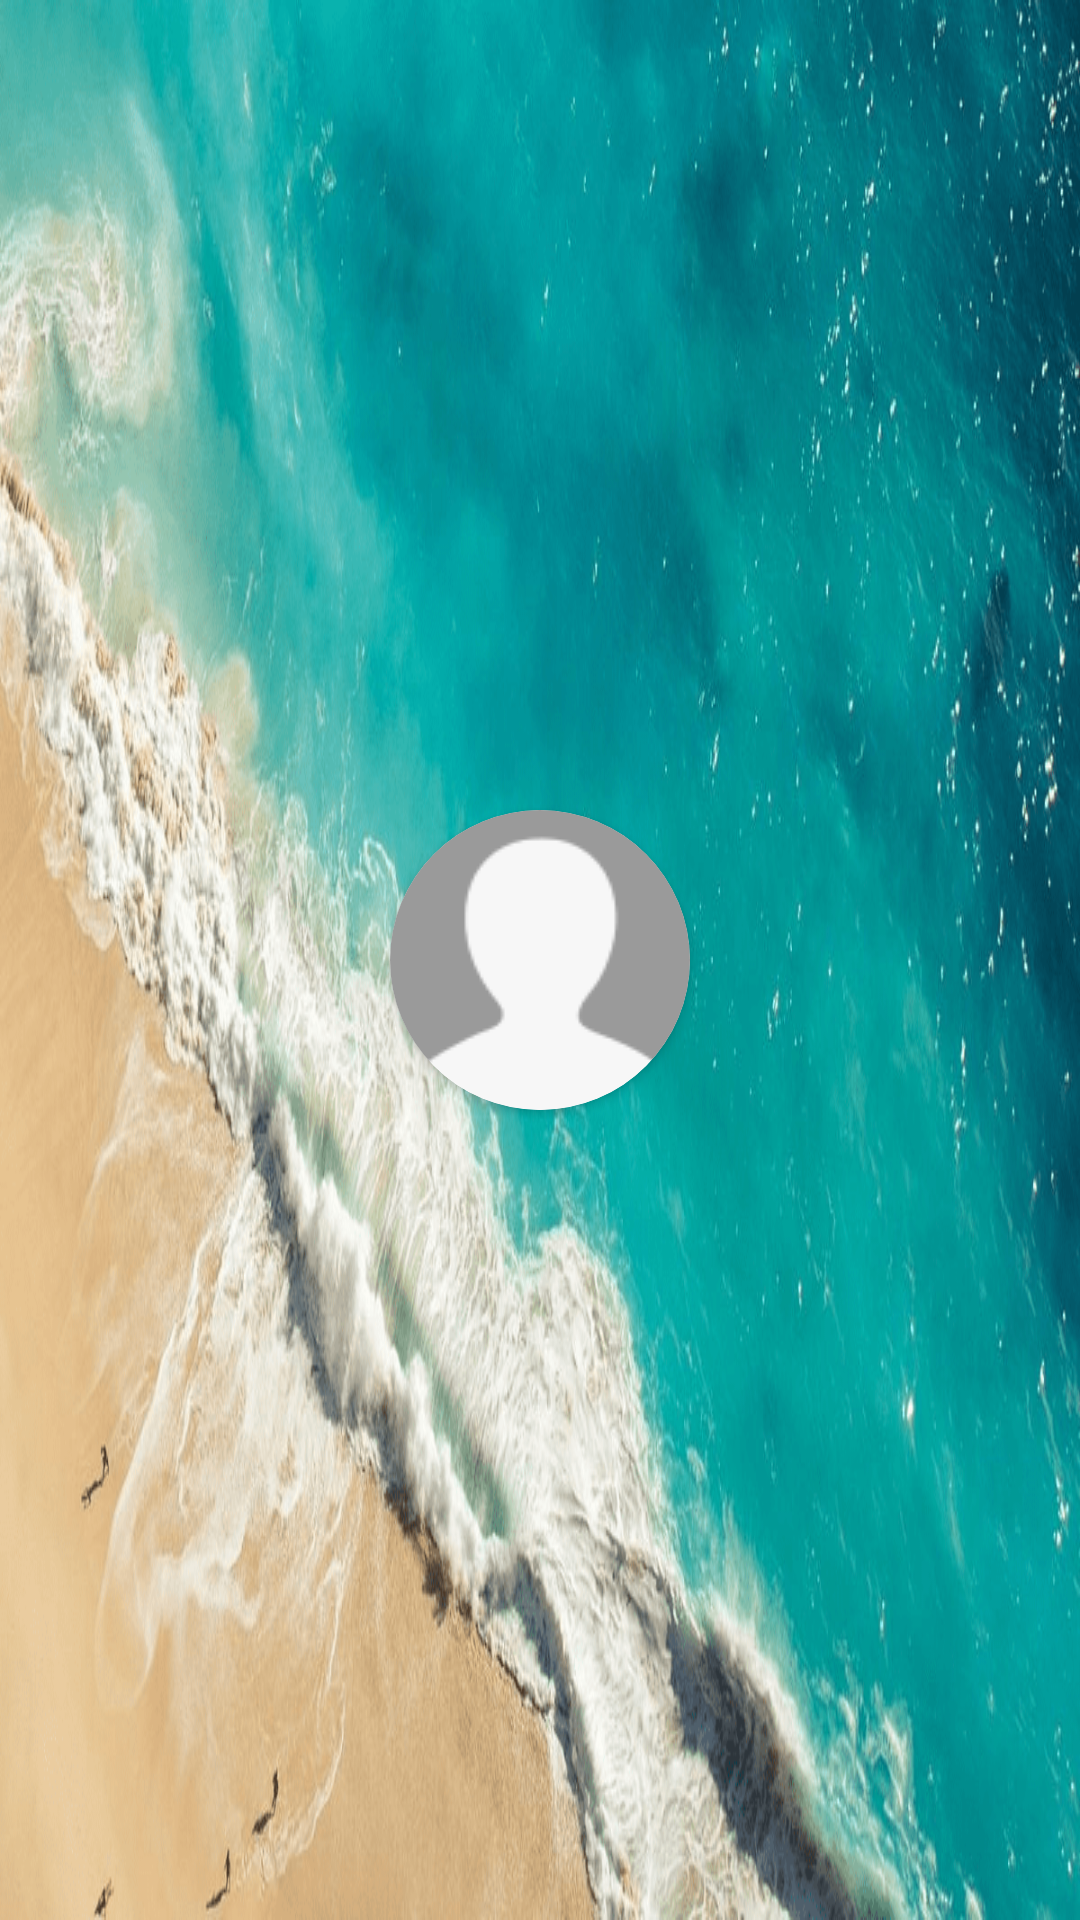

Screen size 1080px×1920px. Icon name, then its center in pixels as point (x, y):
user profile: point (540, 960)
